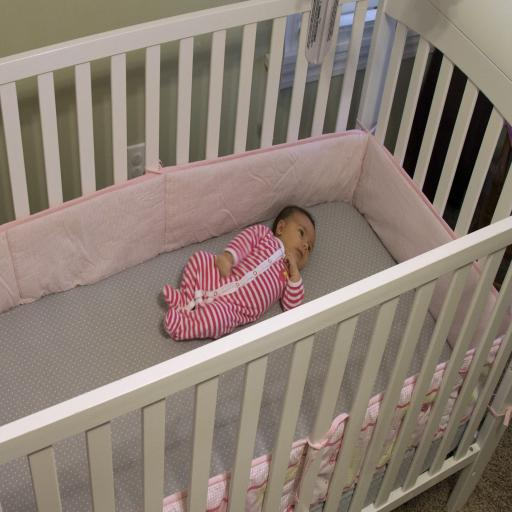baby: (164, 207, 315, 340)
crib: (0, 0, 511, 511)
